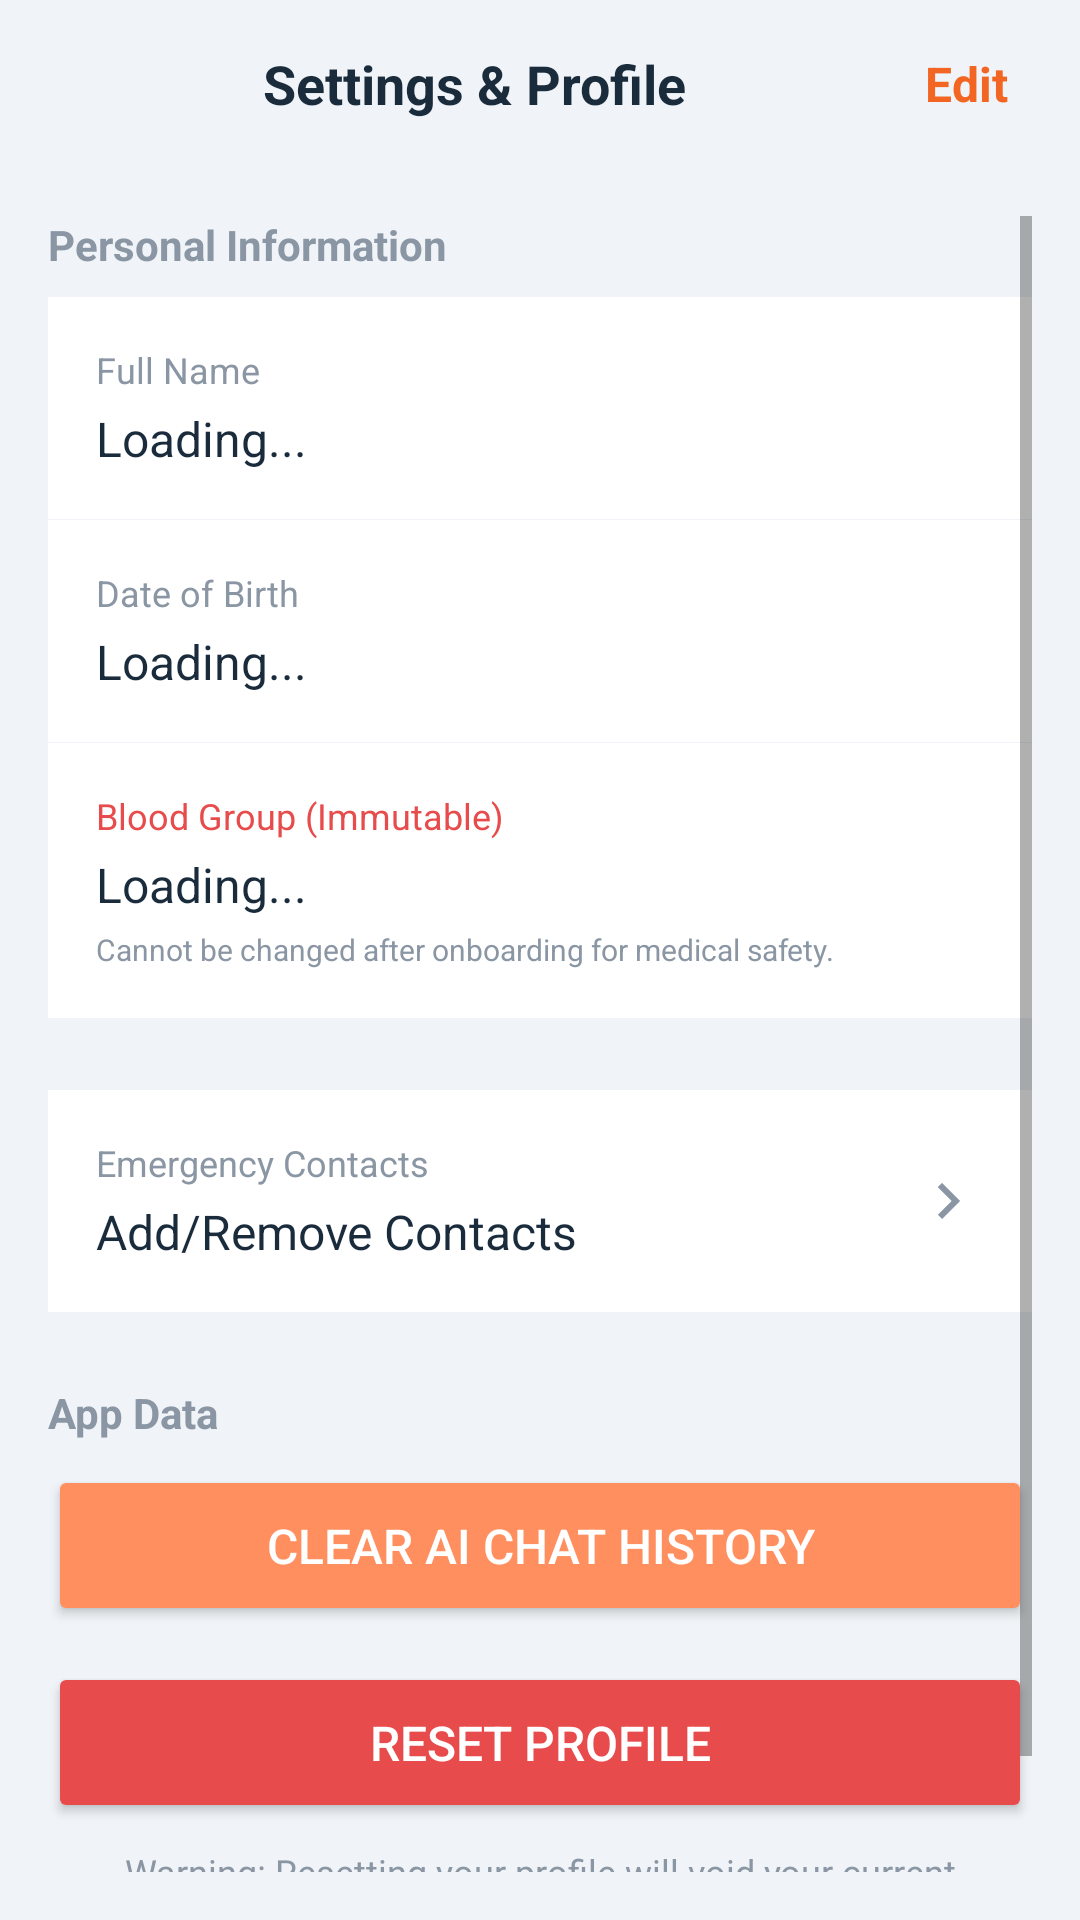

Locate icon controls on the screen. Image size 1080*1920, boxes as (left=x1, top=y1, right=x2, bottom=y2).
chevron right: (left=938, top=1183, right=960, bottom=1219)
